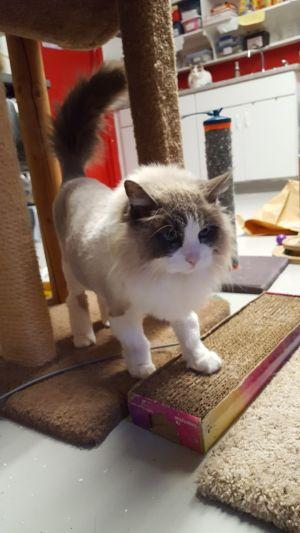ragdoll: (119, 168, 242, 305)
